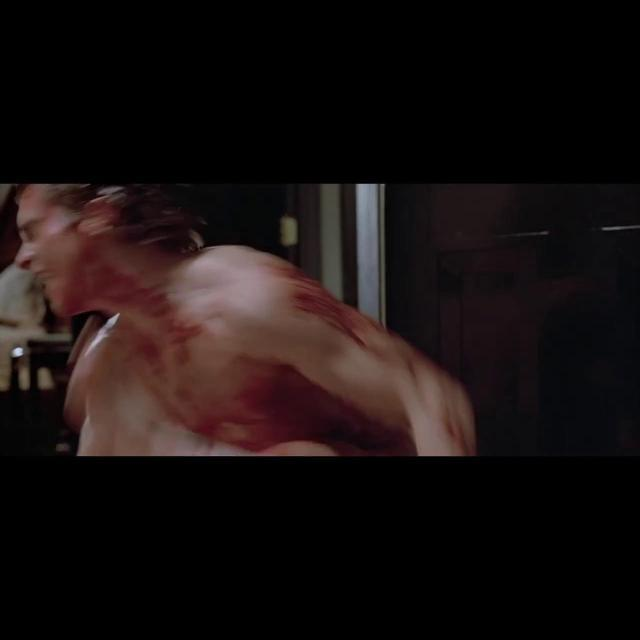blood: (204, 356, 416, 455), (38, 234, 184, 315), (124, 315, 216, 437), (286, 270, 390, 352), (400, 351, 476, 456)
